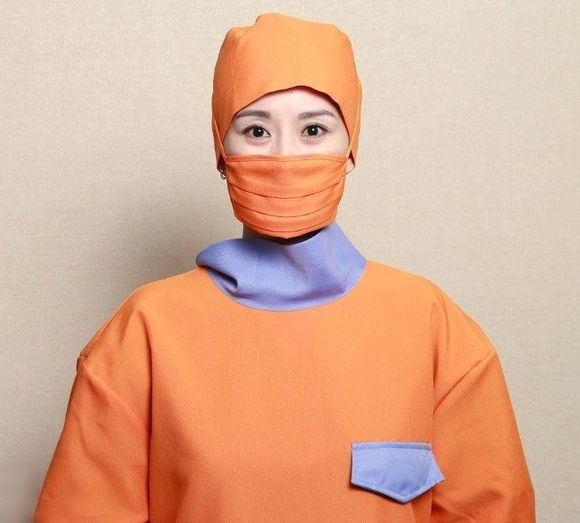face_mask: (225, 75, 346, 220)
